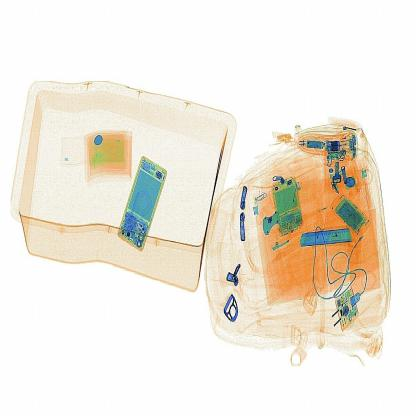pliers: (292, 222, 359, 252)
